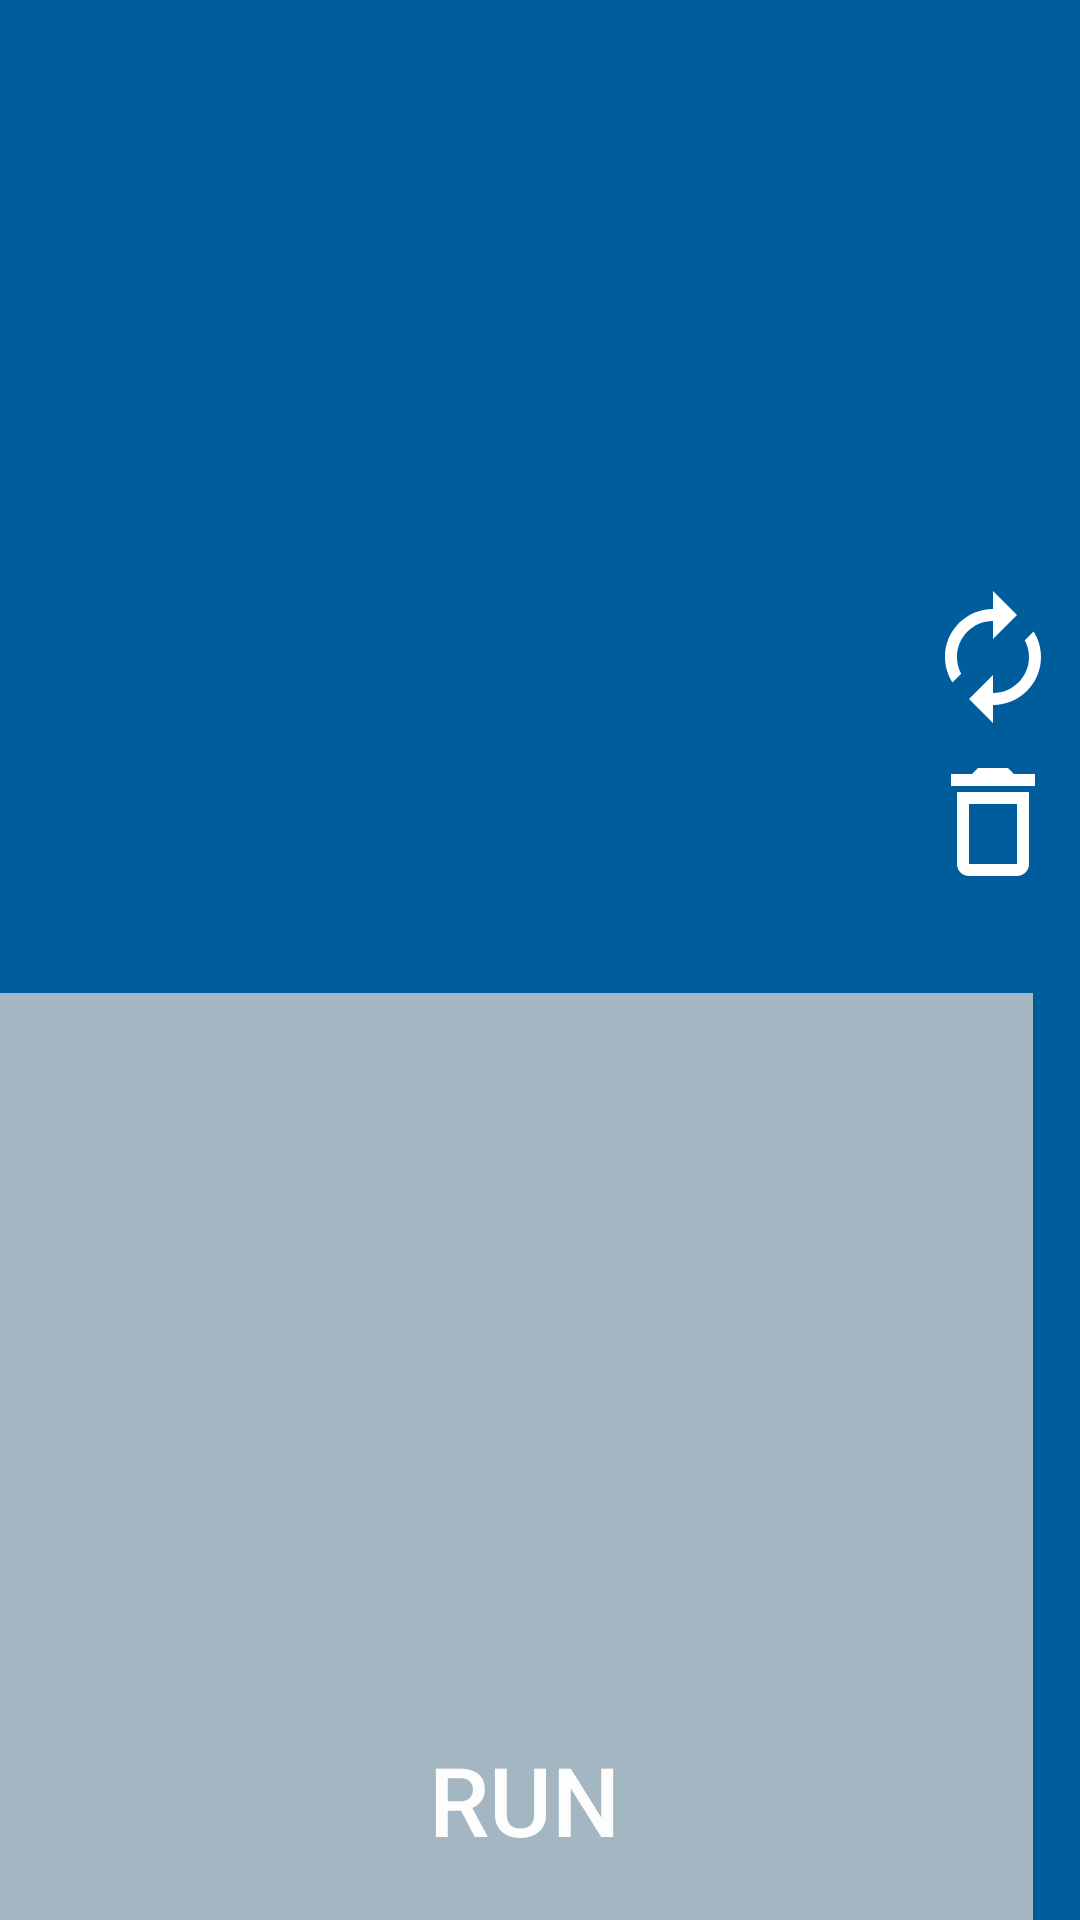

Where icons sit on this 1080 x 1920 app screen, as (x1, y1, x2, y2):
autorenew: (945, 591, 1041, 723)
delete: (951, 768, 1035, 876)
